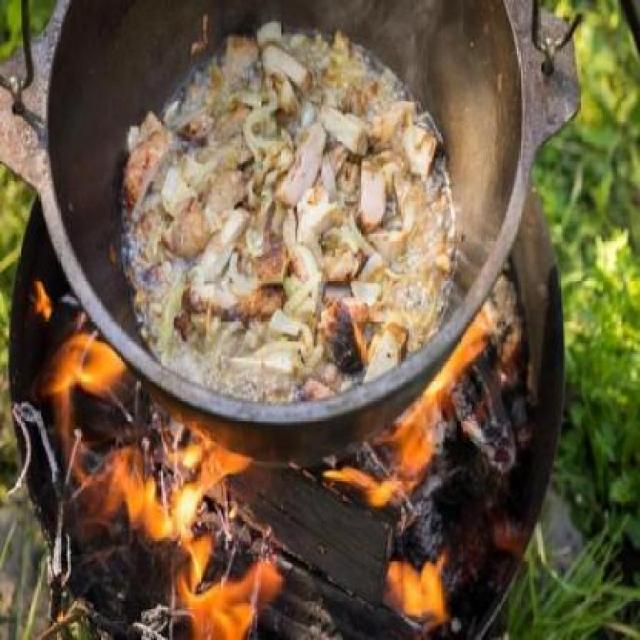Fire: (25, 263, 517, 639)
